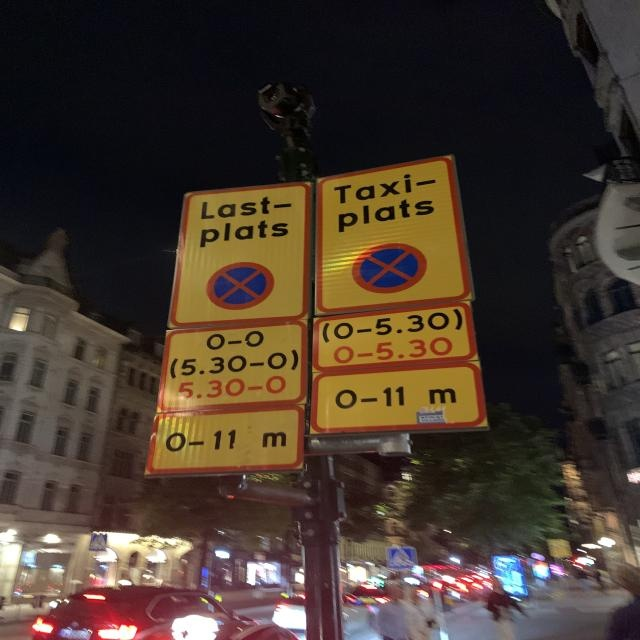lastplats: (165, 182, 314, 330)
